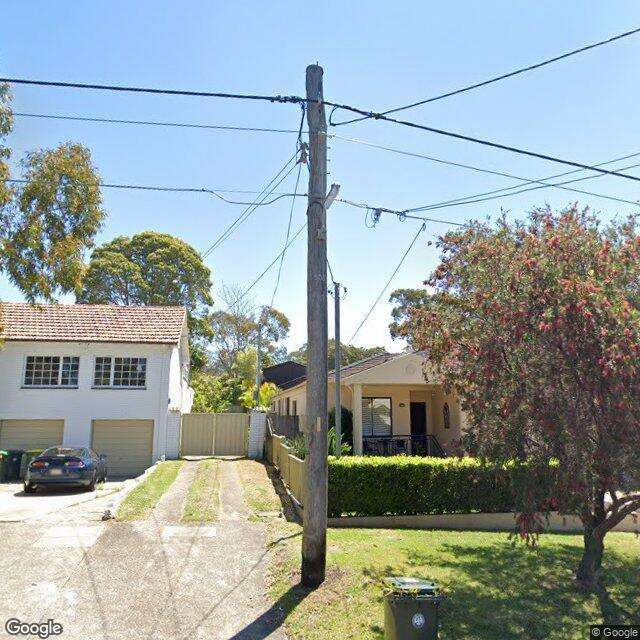steel-pole: (334, 284, 341, 458)
streetlight: (317, 183, 340, 240)
timber-pole: (301, 64, 326, 585)
